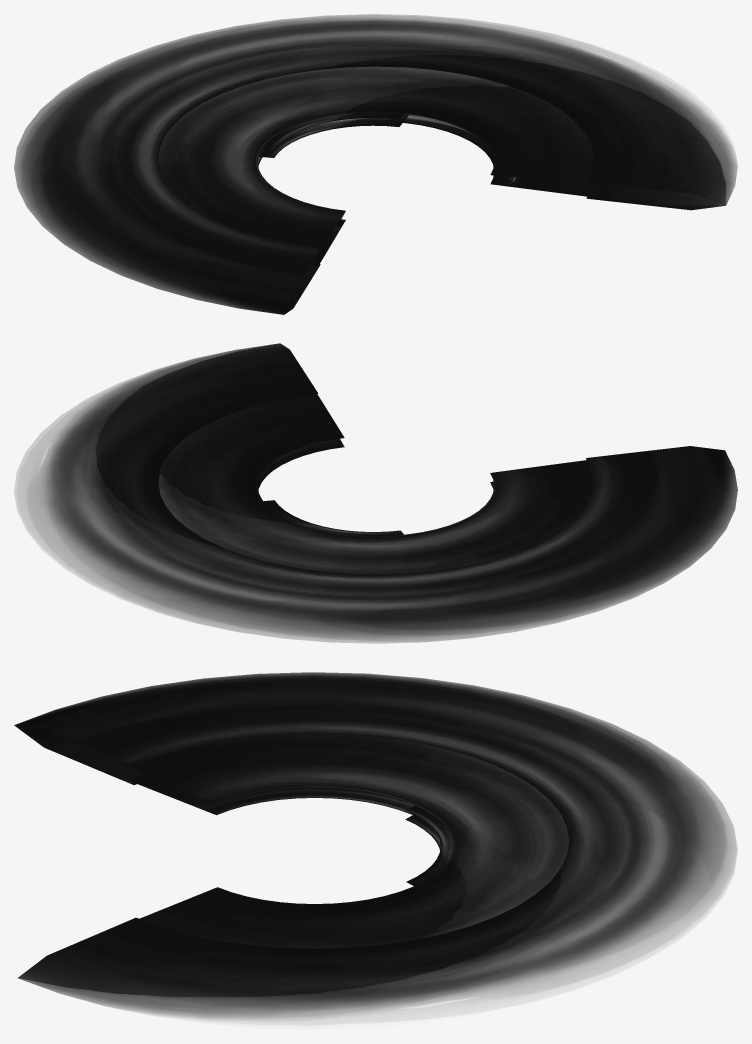
The model's file is fx_Daoguang.FBX.
3 renders of one model, top to bottom at view 1: azimuth 30°, elevation 25°; view 2: azimuth 150°, elevation 25°; view 3: azimuth 270°, elevation 25°, orthographic. The views are drawn at different scales.
Visible parts, largest first — view 1: Cylinder003, Cylinder004, Cylinder, Cylinder002; view 2: Cylinder003, Cylinder004, Cylinder002, Cylinder; view 3: Cylinder003, Cylinder004, Cylinder002, Cylinder.
Part boxes in pixels (x1,y1,x2,y2): Cylinder003: (14, 14, 737, 314); Cylinder004: (158, 66, 724, 314); Cylinder: (258, 112, 408, 157); Cylinder002: (256, 111, 515, 226); Cylinder003: (14, 343, 737, 643); Cylinder004: (158, 394, 593, 574); Cylinder002: (256, 437, 495, 536); Cylinder: (264, 500, 403, 536); Cylinder003: (14, 672, 737, 1029); Cylinder004: (14, 725, 568, 948); Cylinder002: (196, 786, 454, 904); Cylinder: (405, 805, 452, 885).
Size of the model in its own units: 545 by 13.96 by 466.
1 material, 1 textured.
